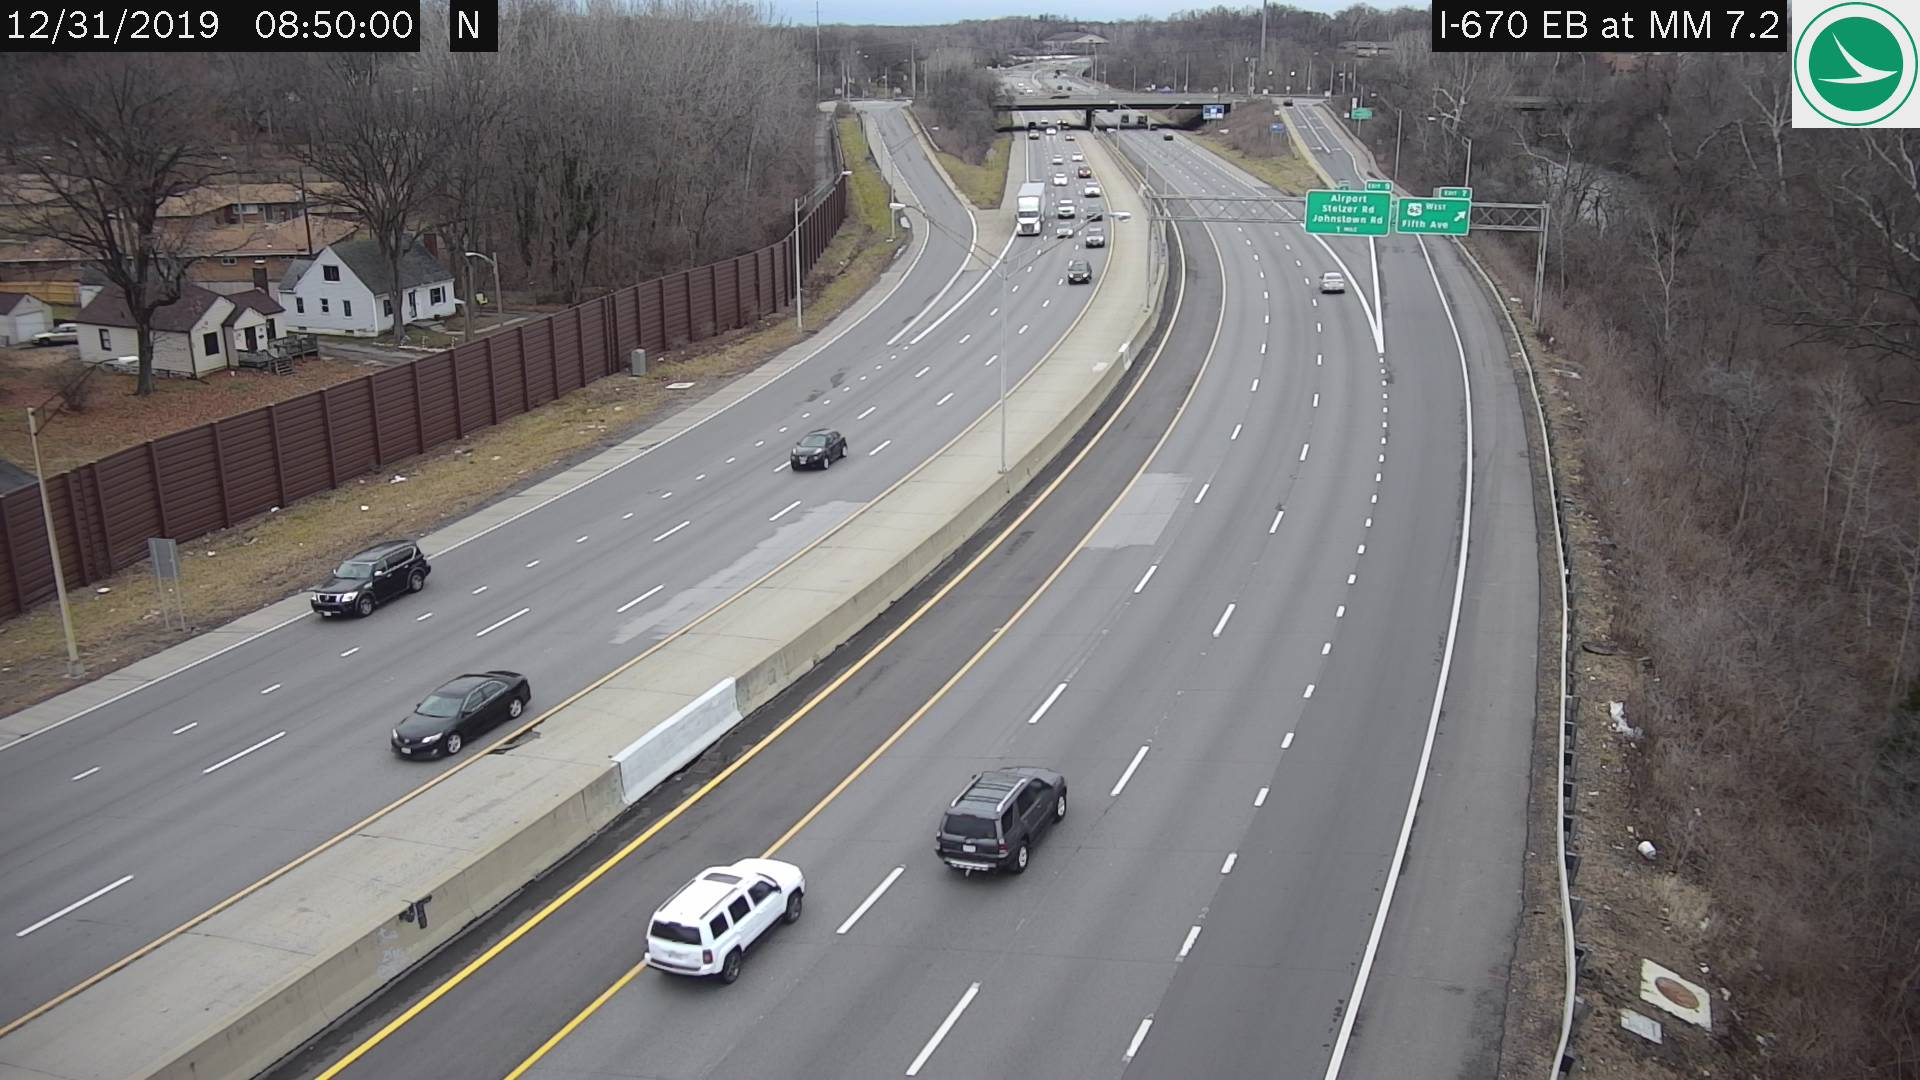car: (646, 856, 802, 988), (938, 767, 1065, 876), (390, 669, 530, 760), (306, 535, 426, 616), (790, 429, 847, 472), (1015, 179, 1046, 235), (1321, 270, 1346, 291), (1068, 260, 1091, 282), (1087, 225, 1102, 245), (1058, 196, 1073, 215), (1083, 182, 1101, 195), (1077, 164, 1092, 178), (1056, 222, 1071, 235)
